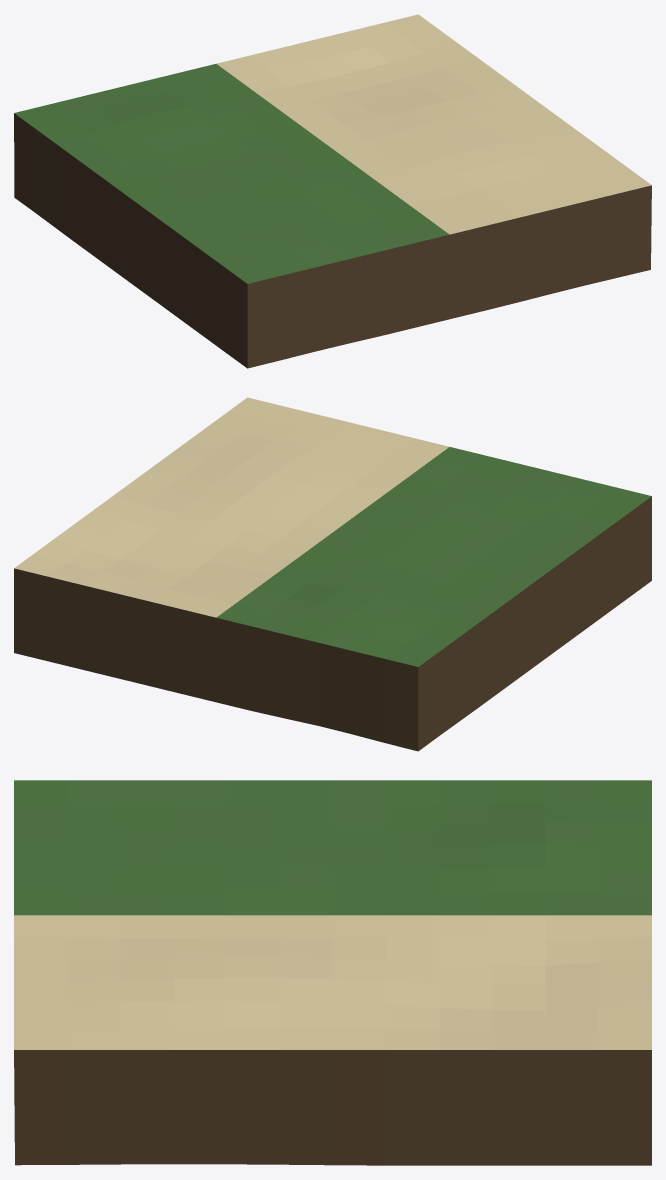
File: grass_sand_edge.glb
3 renders of one model, top to bottom at view 1: azimuth 30°, elevation 25°; view 2: azimuth 150°, elevation 25°; view 3: azimuth 270°, elevation 25°, orthographic. The views are drawn at different scales.
Visible parts, largest first — view 1: Grid; view 2: Grid; view 3: Grid.
Part boxes in pixels (x1,y1,x2,y2): Grid: (14,14,651,368); Grid: (14,397,651,751); Grid: (14,780,651,1165).
Size of the model in its own units: 1 by 0.2083 by 1.
